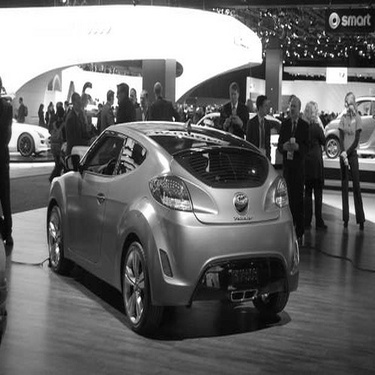car: (34, 112, 305, 343), (182, 103, 295, 173), (307, 85, 373, 165), (1, 101, 69, 167)
